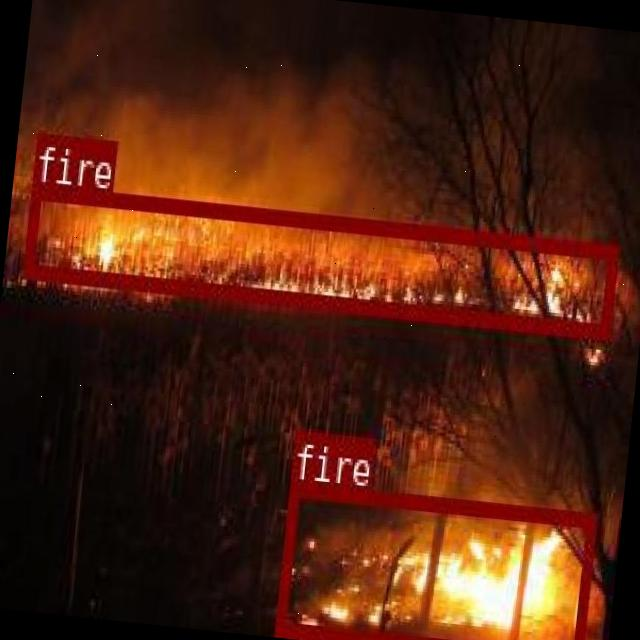fire: (21, 180, 618, 335), (273, 479, 593, 640)
